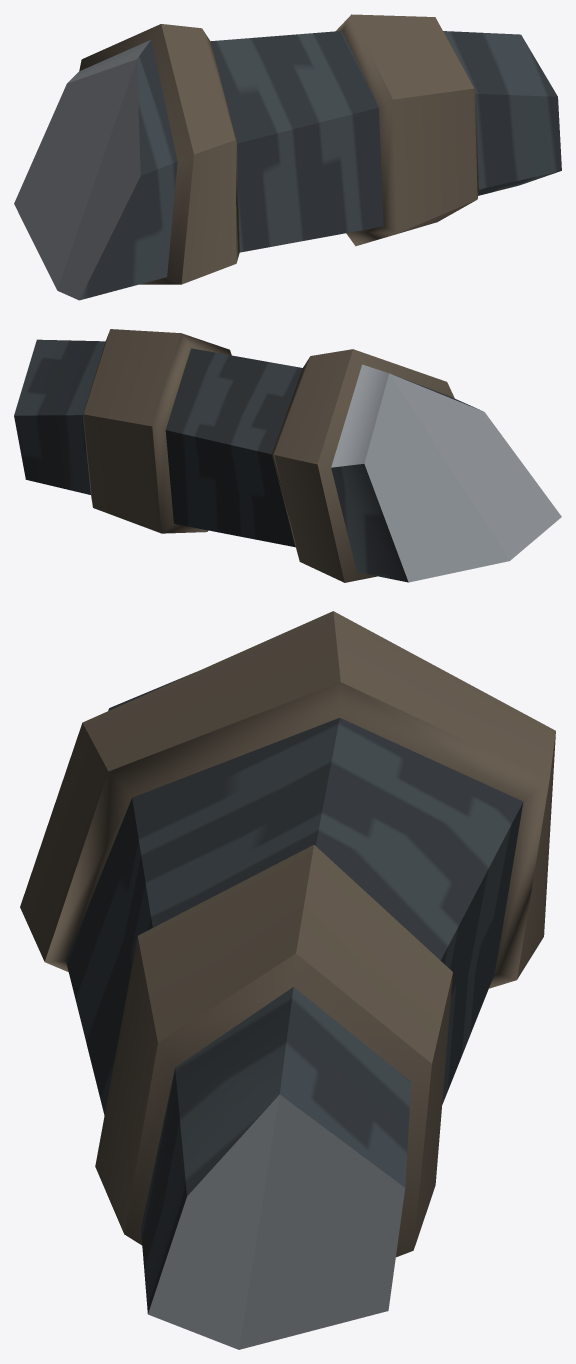
File: Chr_ArmUpperLeft_Female_02_Static.fbx
The picture shows the model from 3 angles, top to bottom: view 1: azimuth 30°, elevation 25°; view 2: azimuth 150°, elevation 25°; view 3: azimuth 270°, elevation 25°; orthographic projection. The views are drawn at different scales.
Parts seen in each view (by area): view 1: Chr_ArmUpperLeft_Female_02_Static; view 2: Chr_ArmUpperLeft_Female_02_Static; view 3: Chr_ArmUpperLeft_Female_02_Static.
Boxes of the visible parts, x1,y1,x2,y2 form: Chr_ArmUpperLeft_Female_02_Static: (14, 14, 561, 300); Chr_ArmUpperLeft_Female_02_Static: (14, 329, 561, 582); Chr_ArmUpperLeft_Female_02_Static: (20, 611, 555, 1349).
Bounding box in the file's own units: 0.3535 × 0.1657 × 0.1692.
